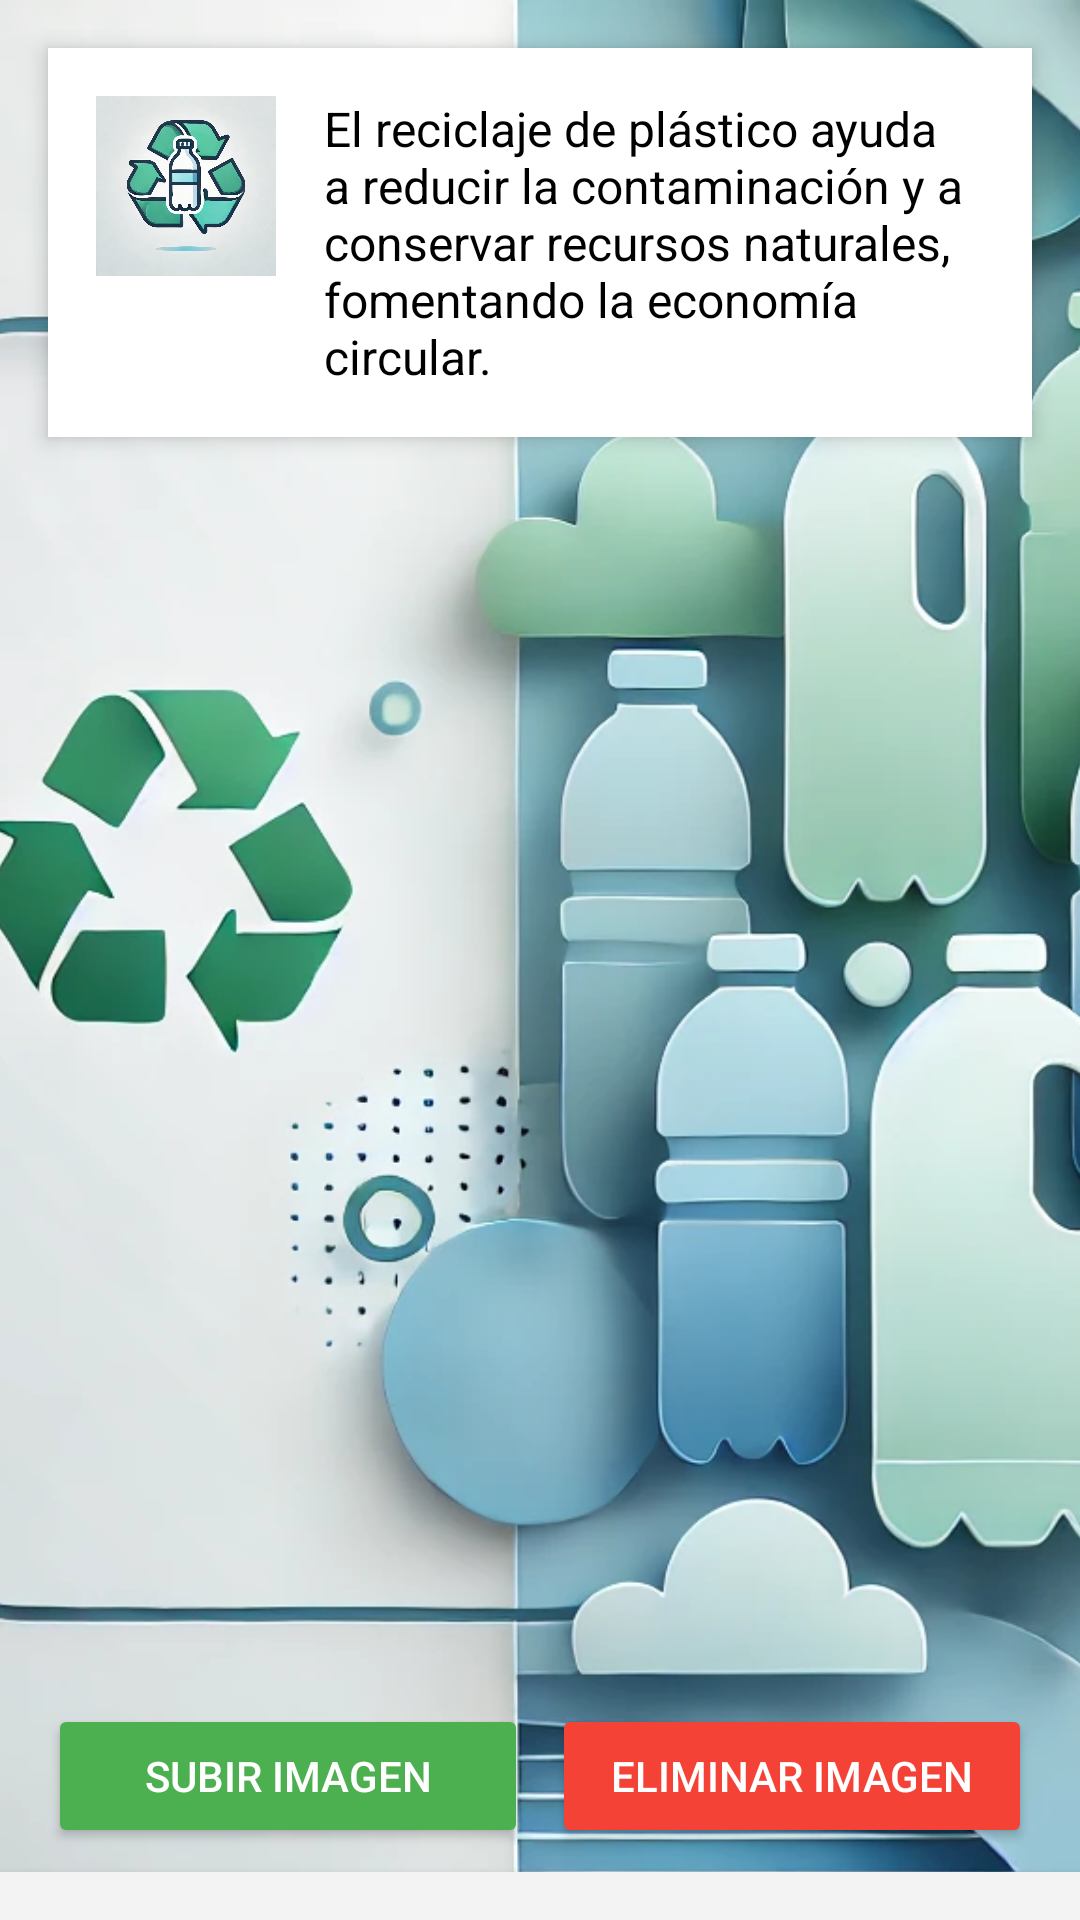

Icon click points for this 1080 x 1920 phone screenshot, format (x,y):
Icono de plástico reciclado: (186,186)
